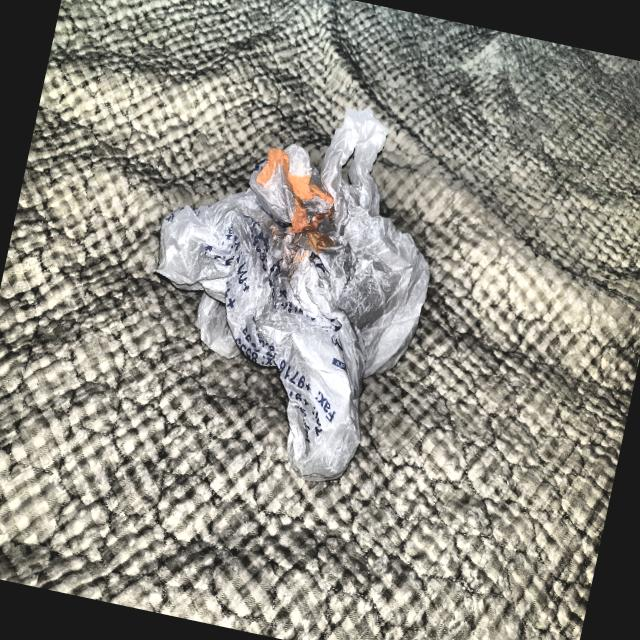plastic bag: (98, 59, 474, 524)
